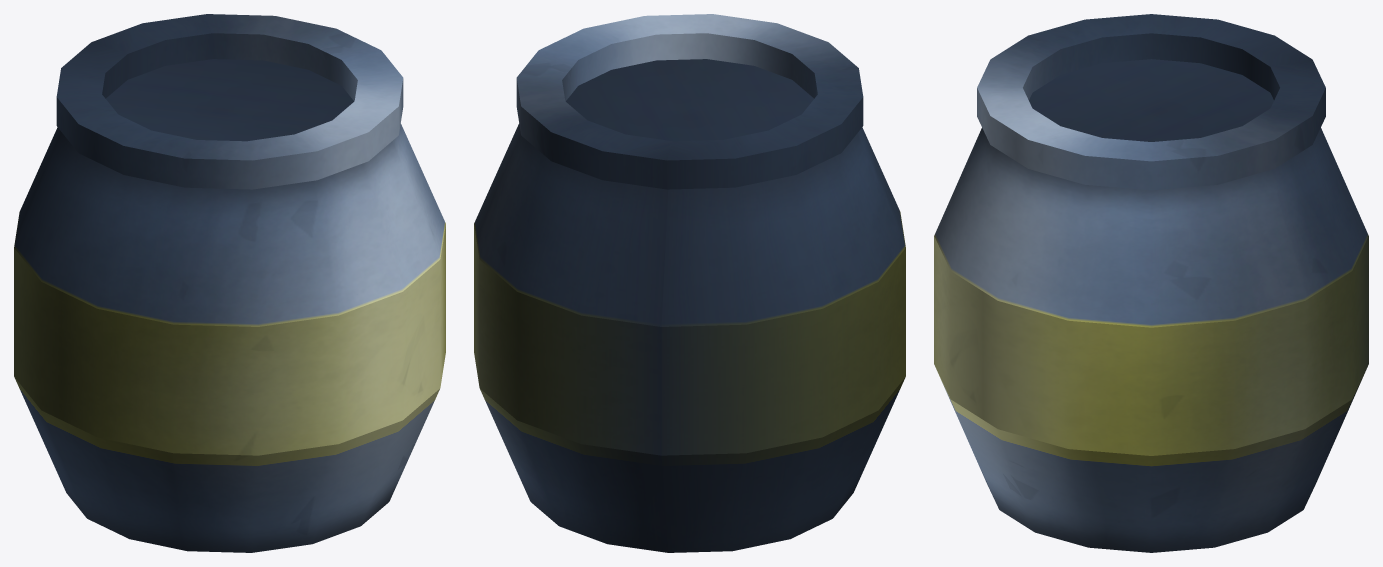
The model's file is Barrel.fbx.
3 renders of one model, left to right at view 1: azimuth 30°, elevation 25°; view 2: azimuth 150°, elevation 25°; view 3: azimuth 270°, elevation 25°, orthographic.
Visible parts, largest first — view 1: Barrel; view 2: Barrel; view 3: Barrel.
Part boxes in pixels (x1,y1,x2,y2): Barrel: (14, 14, 445, 552); Barrel: (474, 14, 905, 552); Barrel: (934, 14, 1368, 552).
Bounding box in the file's own units: 70.38 × 70.68 × 70.38.
